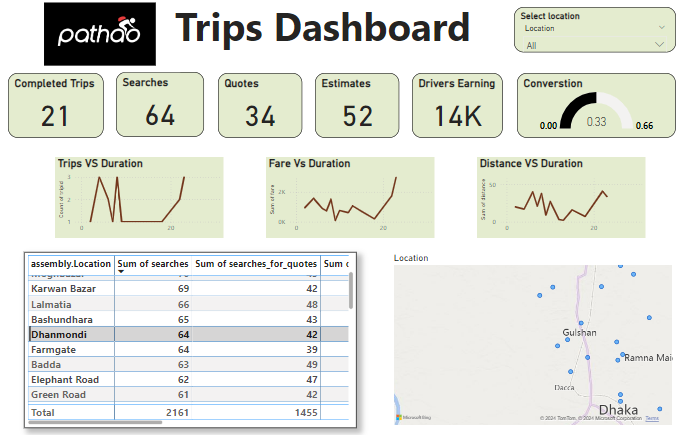

Layout of this report page (visuals, bound fields, positions):
{"tool":"powerbi","page":{"name":"Page 1","canvas":[1280,820],"ordinal":0},"visuals":[{"type":"card","title":"Completed Trips","fields":{"Values":["Sum(trip_details.end_ride)"]},"box":[19.6,142.9,176.8,119.6],"z":0},{"type":"card","title":"Searches","fields":{"Values":["Sum(trip_details.searches)"]},"box":[219.6,141.1,162.5,119.6],"z":1000},{"type":"card","title":"Estimates","fields":{"Values":["Sum(trip_details.searches_got_estimate)"]},"box":[588.7,142.6,156,120],"z":2000},{"type":"card","title":"Quotes","fields":{"Values":["Sum(trip_details.searches_got_quotes)"]},"box":[408.7,142.6,156,120],"z":3000},{"type":"card","title":"Drivers Earning","fields":{"Values":["Sum(trips.fare)"]},"box":[768.7,142.6,168,120],"z":4000},{"type":"gauge","fields":{"Y":["trip_details.Converstion"]},"box":[962.7,142.6,294,120],"z":5000},{"type":"lineChart","title":"Trips VS Duration","fields":{"Category":["trips.duration"],"Y":["CountNonNull(trips.tripid)"]},"box":[108,298,312,150],"z":6000},{"type":"lineChart","title":"Fare Vs Duration","fields":{"Category":["trips.duration"],"Y":["Sum(trips.fare)"]},"box":[498,298,312,150],"z":7000},{"type":"lineChart","title":"Distance VS Duration","fields":{"Category":["trips.duration"],"Y":["Sum(trips.distance)"]},"box":[888,298,312,150],"z":8000},{"type":"tableEx","fields":{"Values":["Merge1.assembly.Location","Sum(Merge1.searches)","Sum(Merge1.searches_for_quotes)","Sum(Merge1.searches_got_estimate)","Sum(Merge1.trips.fare)","Sum(Merge1.trips.loc_from)","Sum(Merge1.trips.loc_to)","trip_details.Converstion"]},"box":[50,474,616,326],"z":9000},{"type":"map","fields":{"Category":["assembly.Location"]},"box":[730,474,526,326],"z":9001},{"type":"image","box":[25,0,332.1,141.1],"z":9002},{"type":"textbox","box":[301.8,0,603.6,125],"z":9003},{"type":"slicer","title":"Select location","fields":{"Values":["assembly.Location"]},"box":[957.1,19.6,300,83.9],"z":9004}]}

Visuals, with their boxes in screenshot pixels (x1, y1, x2, y2), scaled from the page's 1280x820 canvas onto the 687x435 screenshot:
"Completed Trips" card: (11, 76, 105, 139)
"Searches" card: (118, 75, 205, 138)
"Estimates" card: (316, 76, 400, 139)
"Quotes" card: (219, 76, 303, 139)
"Drivers Earning" card: (413, 76, 503, 139)
gauge - trip_details.Converstion: (517, 76, 674, 139)
"Trips VS Duration" lineChart: (58, 158, 225, 238)
"Fare Vs Duration" lineChart: (267, 158, 435, 238)
"Distance VS Duration" lineChart: (477, 158, 644, 238)
tableEx - Merge1.assembly.Location x Sum(Merge1.searches): (27, 251, 357, 424)
map - assembly.Location: (392, 251, 674, 424)
image: (13, 0, 192, 75)
textbox: (162, 0, 486, 66)
"Select location" slicer: (514, 10, 675, 55)
